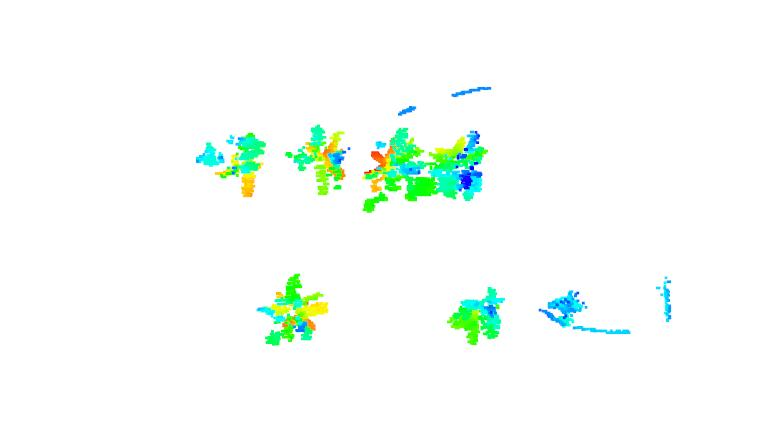chickpea: (363, 123, 436, 217), (193, 127, 275, 201), (258, 272, 325, 348), (287, 122, 349, 196), (432, 128, 490, 202), (446, 285, 513, 348)
